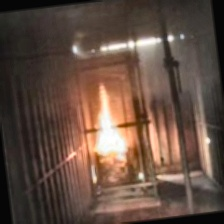fire: (81, 84, 129, 162)
